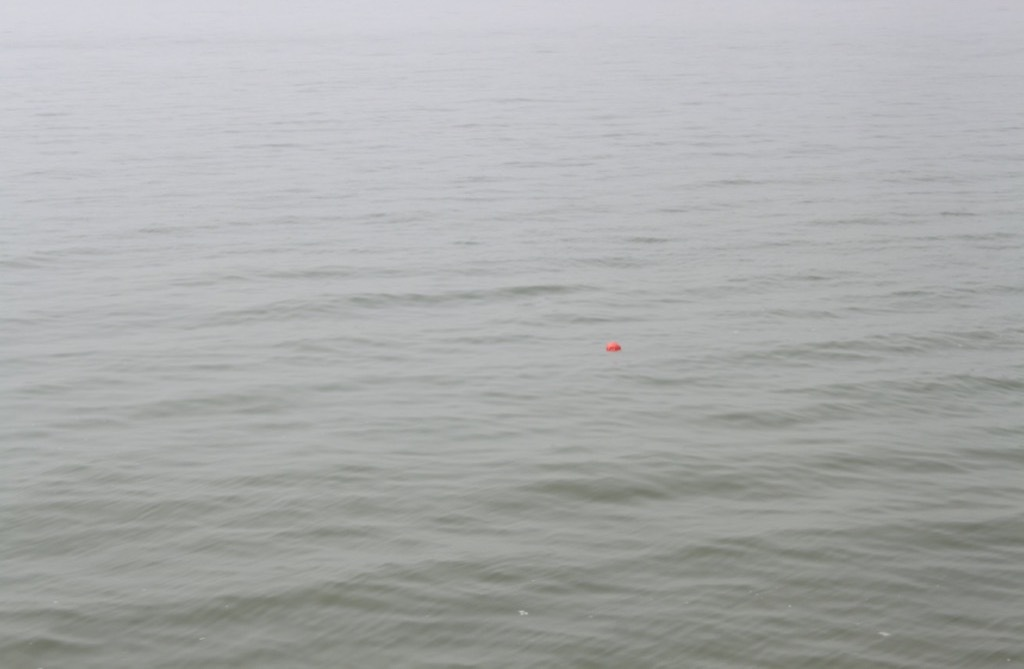plastic: (597, 332, 630, 365)
